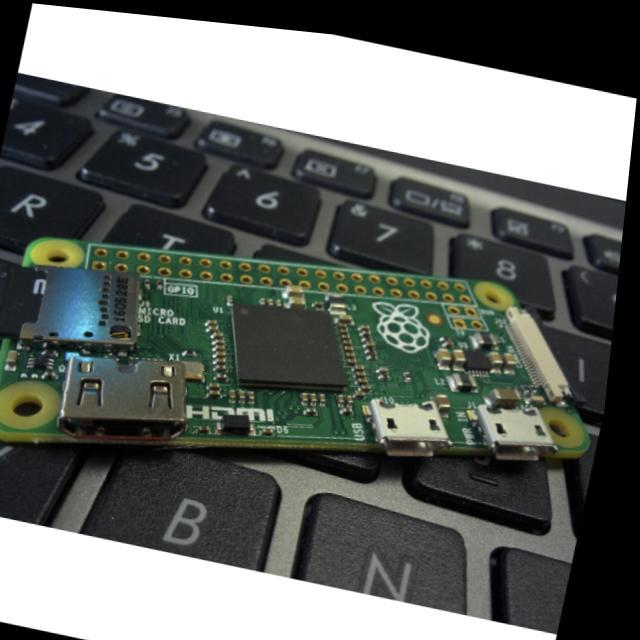Raspberry-Pi-Zero: (1, 239, 588, 460)
